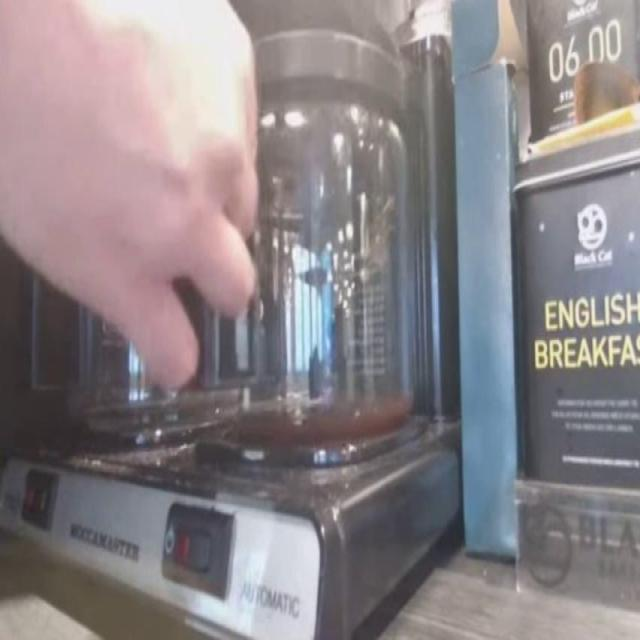nocoffee: (202, 118, 412, 431), (58, 294, 170, 435)
